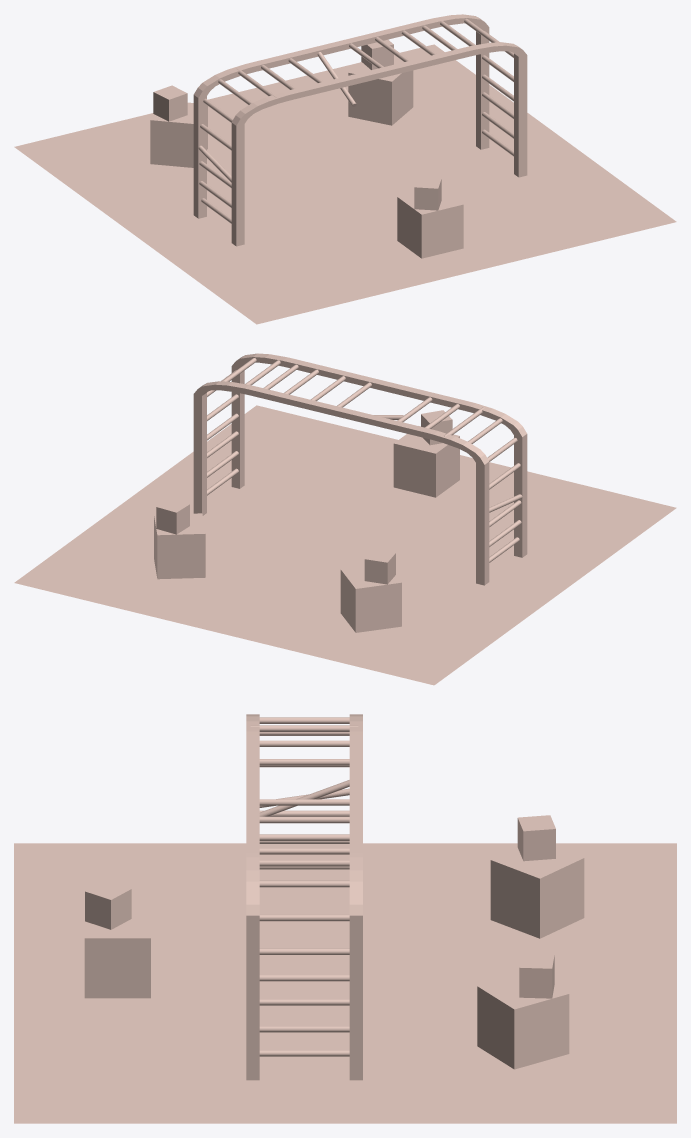
File: MonkeyKingMountain.fbx
The picture shows the model from 3 angles, top to bottom: view 1: azimuth 30°, elevation 25°; view 2: azimuth 150°, elevation 25°; view 3: azimuth 270°, elevation 25°; orthographic projection. The views are drawn at different scales.
Parts seen in each view (by area): view 1: Plane; view 2: Plane; view 3: Plane.
Boxes of the visible parts, left/top/right/bottom form: Plane: left=14, top=14, right=676, bottom=324; Plane: left=14, top=353, right=676, bottom=685; Plane: left=14, top=714, right=676, bottom=1123.
Bounding box in the file's own units: 10 × 3.17 × 10.
